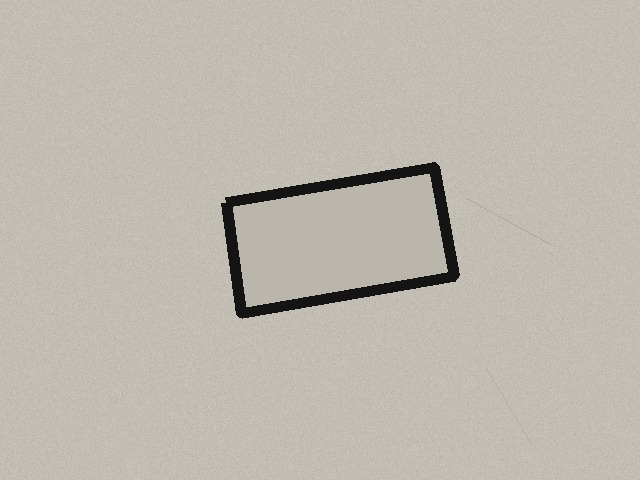parking_area: (226, 167, 454, 313)
